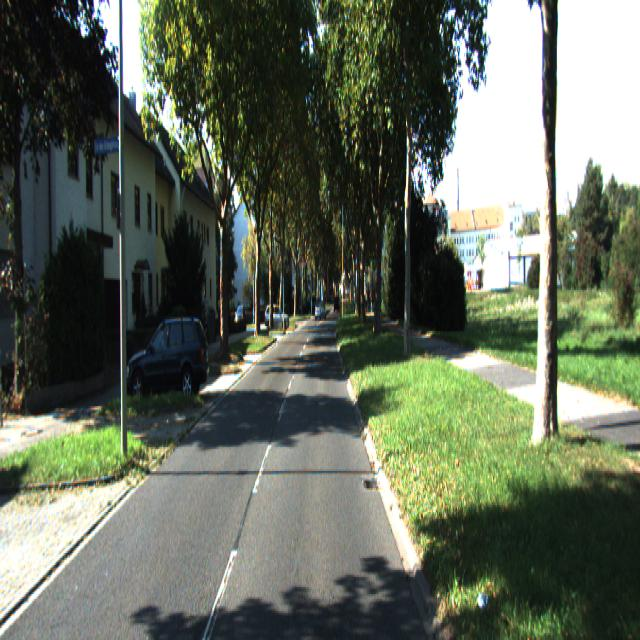Car: (124, 316, 211, 411), (263, 306, 290, 331)
